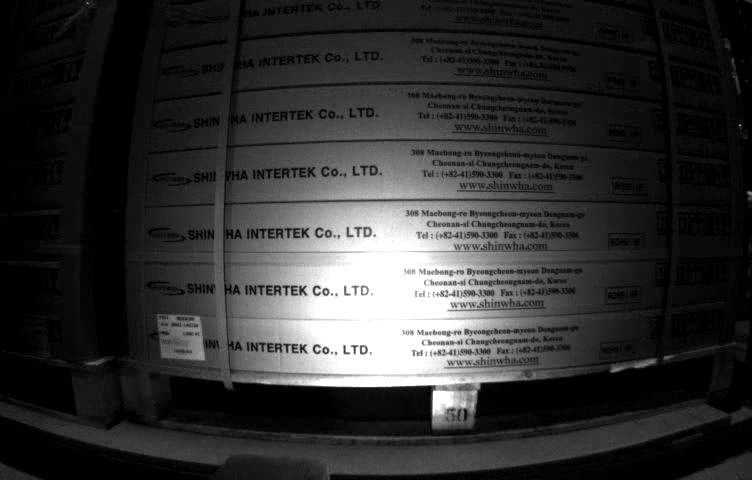True Barcode: (158, 313, 208, 362)
